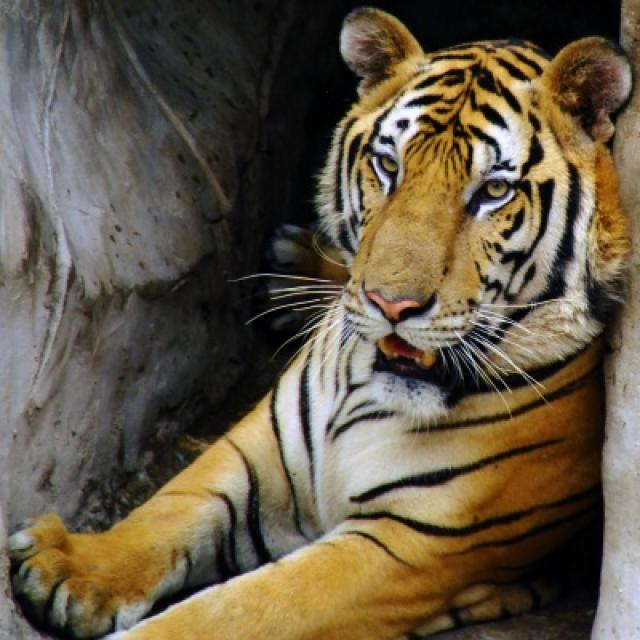Tiger: (7, 6, 634, 638)
